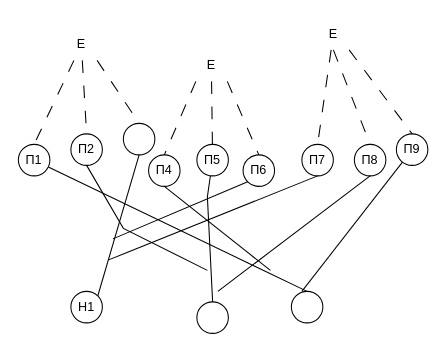
This 446x352 diagram has some shape labels left out. Here are the shapes that lost their labels. From the top down, the centre of each, then its label:
the point at 138,138: П3
the point at 212,317: Н2
the point at 306,306: Н3
